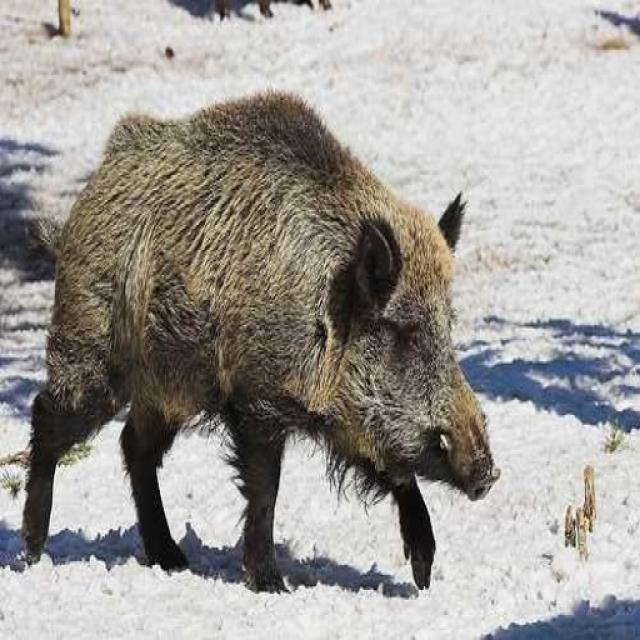pig: (0, 105, 541, 589)
